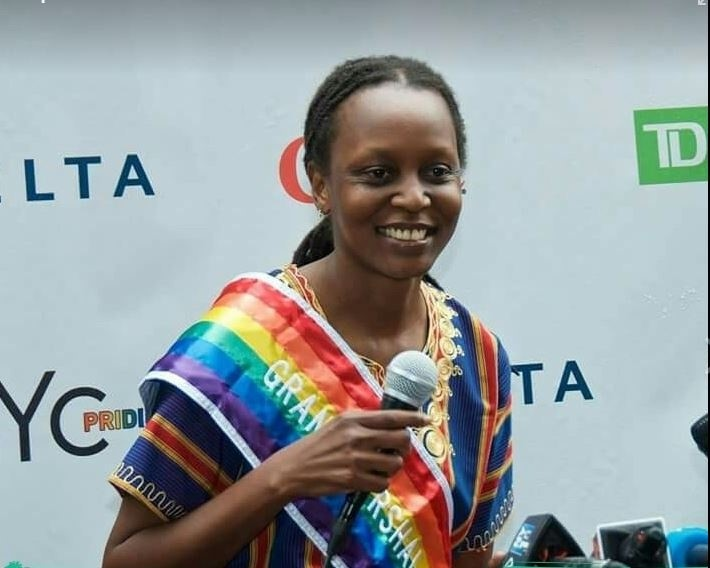face_no_mask: (303, 55, 463, 278)
